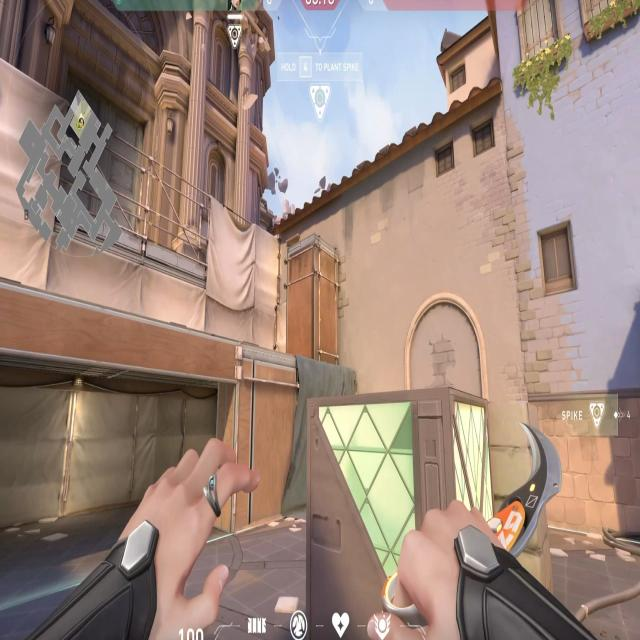A_Heaven_Box: (286, 232, 342, 368)
A_Hell: (0, 271, 247, 565)
